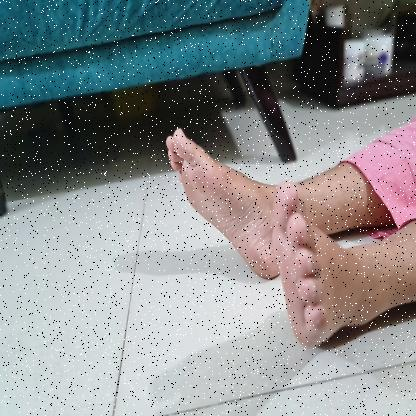leg: (270, 177, 416, 354), (161, 122, 280, 280)
